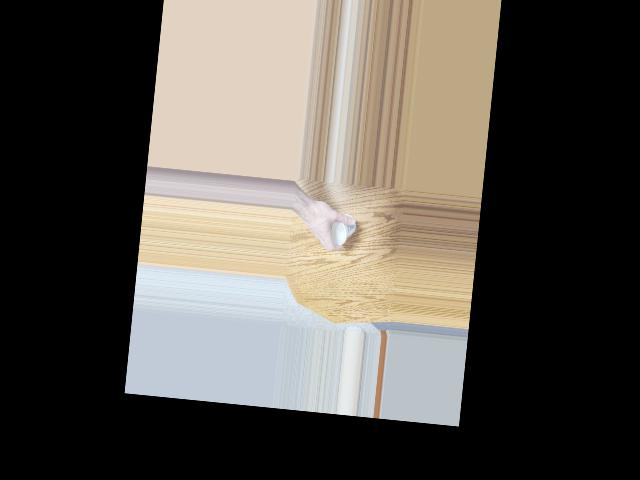cotage: (325, 209, 356, 244)
